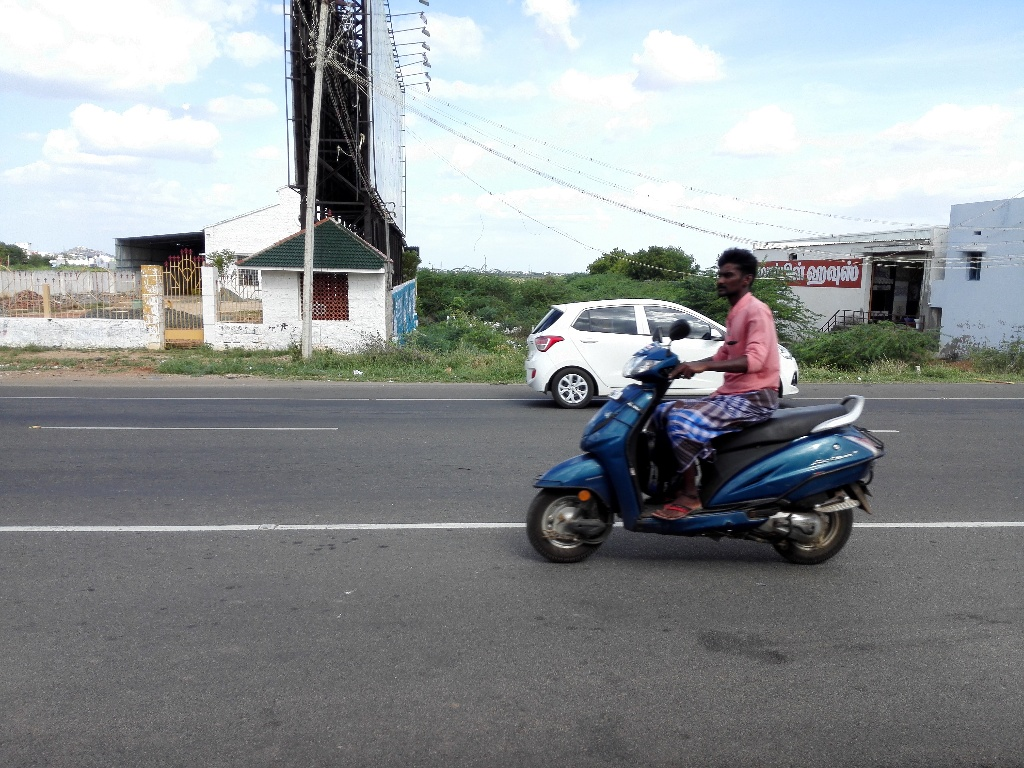biker: (504, 207, 898, 585)
nohelmet: (710, 242, 766, 310)
